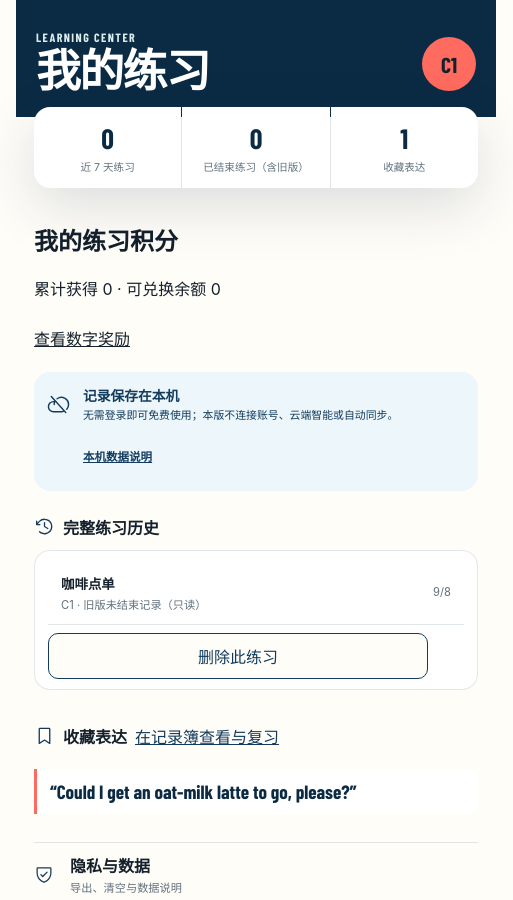
Test: LearningCenter session routes › rejects a stale active confirmation without success or losing newer progress
The width and height of the screenshot is (513, 900).
What coordinates should you click on to do the following:
click the button "删除此练习"
I would click on:
 (238, 656)
Its box is [48,633,428,679].
(page scrolled)
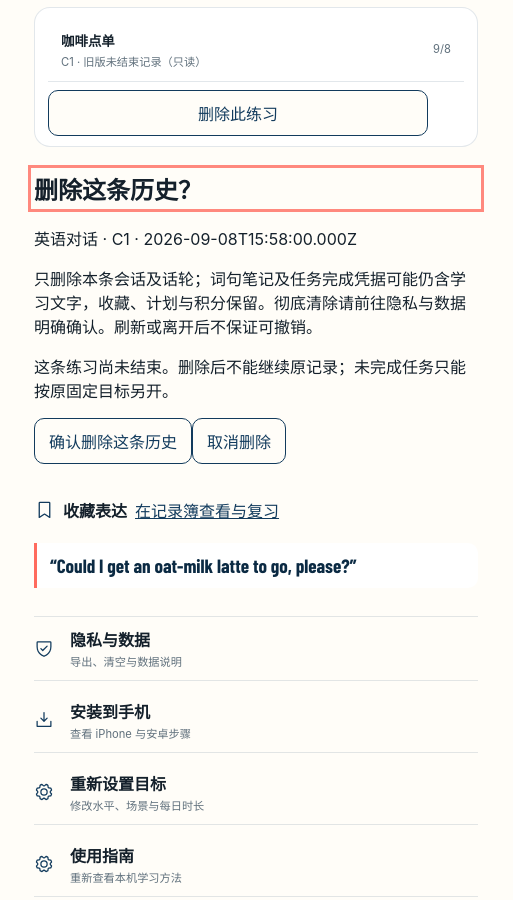
Expected: the text "这条练习尚未结束。删除后不能继续原记录；未完成任务只能按原固定目标另开。" is shown, [34,354,478,402]
What coordinates should you click on to do the following:
click the button "确认删除这条历史"
I would click on:
 (113, 441)
Its box is [34,418,192,464].
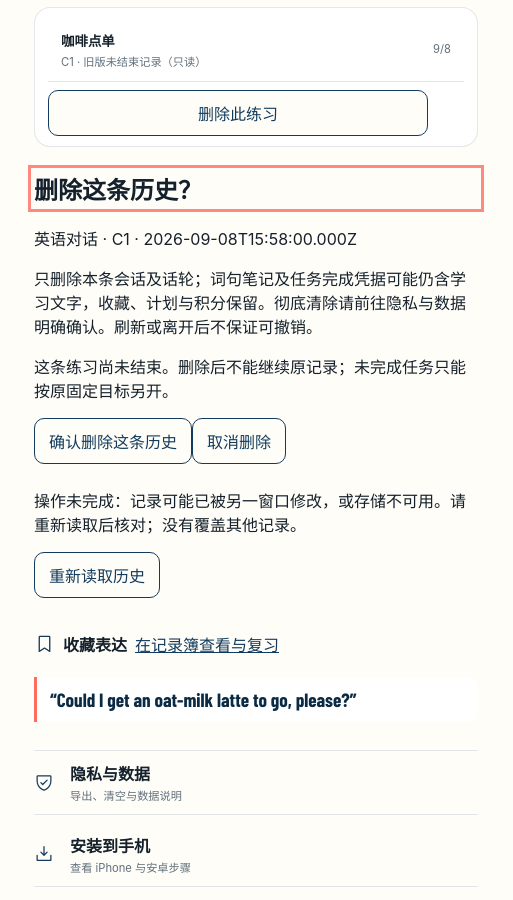
Expected: the message shows "操作未完成", [34,491,466,535]
